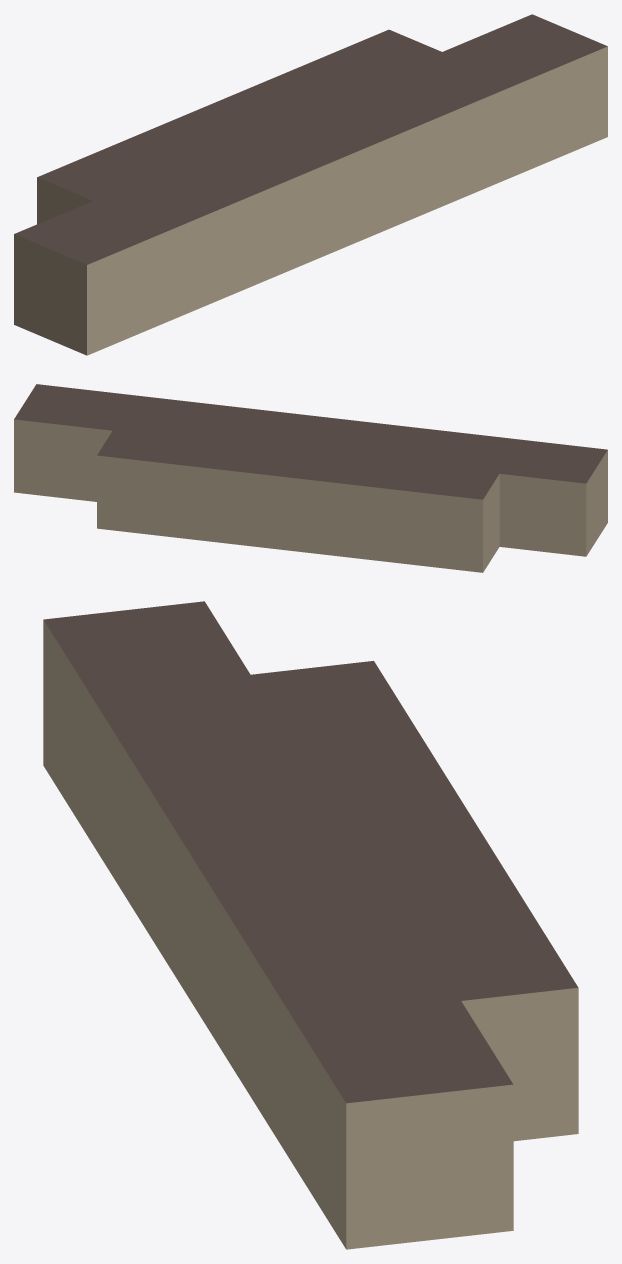
3 renders of one model, top to bottom at view 1: azimuth 30°, elevation 25°; view 2: azimuth 150°, elevation 25°; view 3: azimuth 270°, elevation 25°, orthographic. The views are drawn at different scales.
Visible parts, largest first — view 1: HP-w496382750; view 2: HP-w496382750; view 3: HP-w496382750.
Part boxes in pixels (x1,y1,x2,y2): HP-w496382750: (14,14,607,355); HP-w496382750: (14,384,607,572); HP-w496382750: (43,601,578,1249).
Bounding box in the file's own units: 66.25 × 9 × 29.84.
